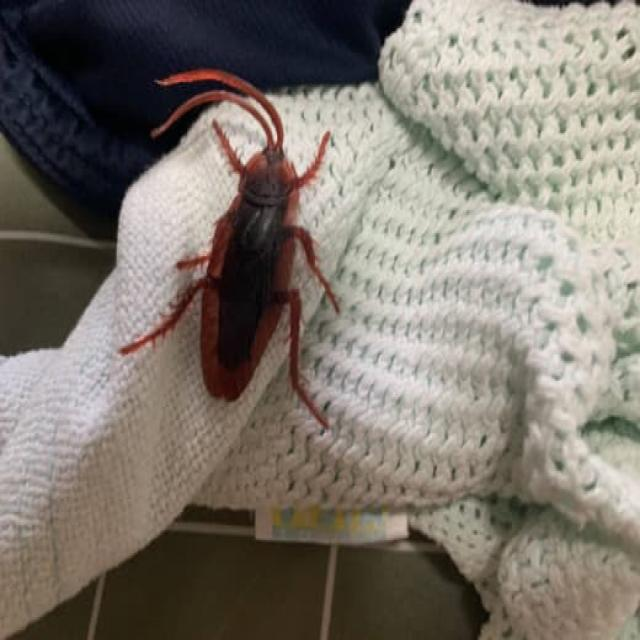Cockroach: (132, 62, 344, 448)
